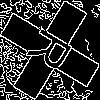R: (25, 25, 83, 80)
